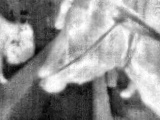eye: (69, 17, 89, 31)
